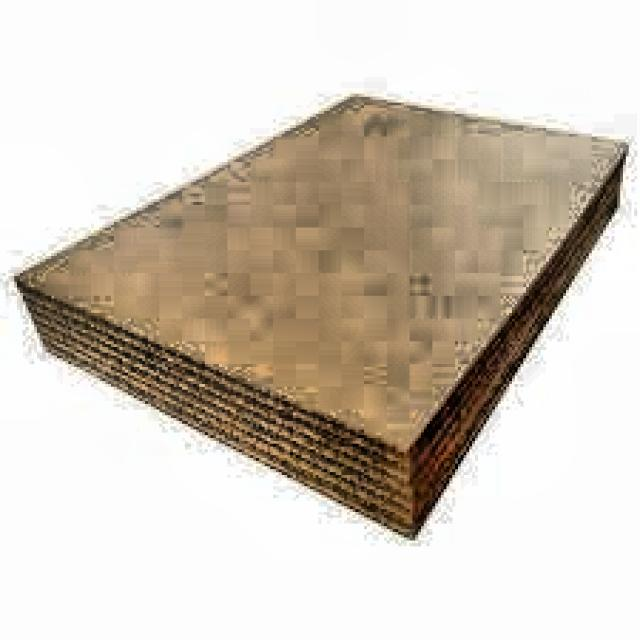Cardbox: (0, 74, 640, 556)
